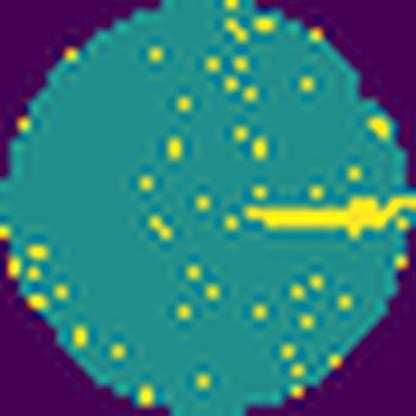Scratch: (243, 191, 416, 241)
